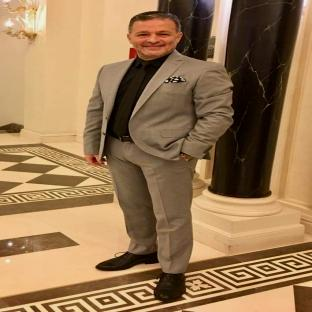Human: (84, 11, 233, 301)
